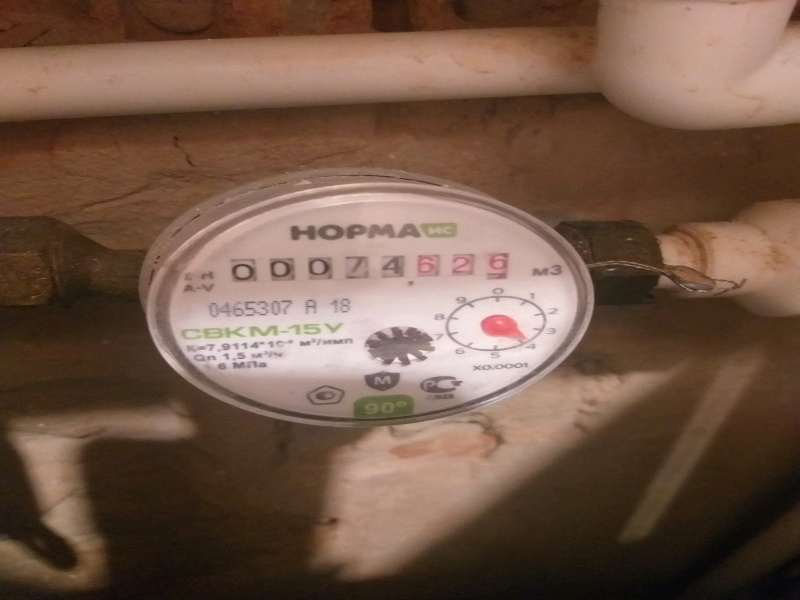meter: (233, 244, 507, 285)
